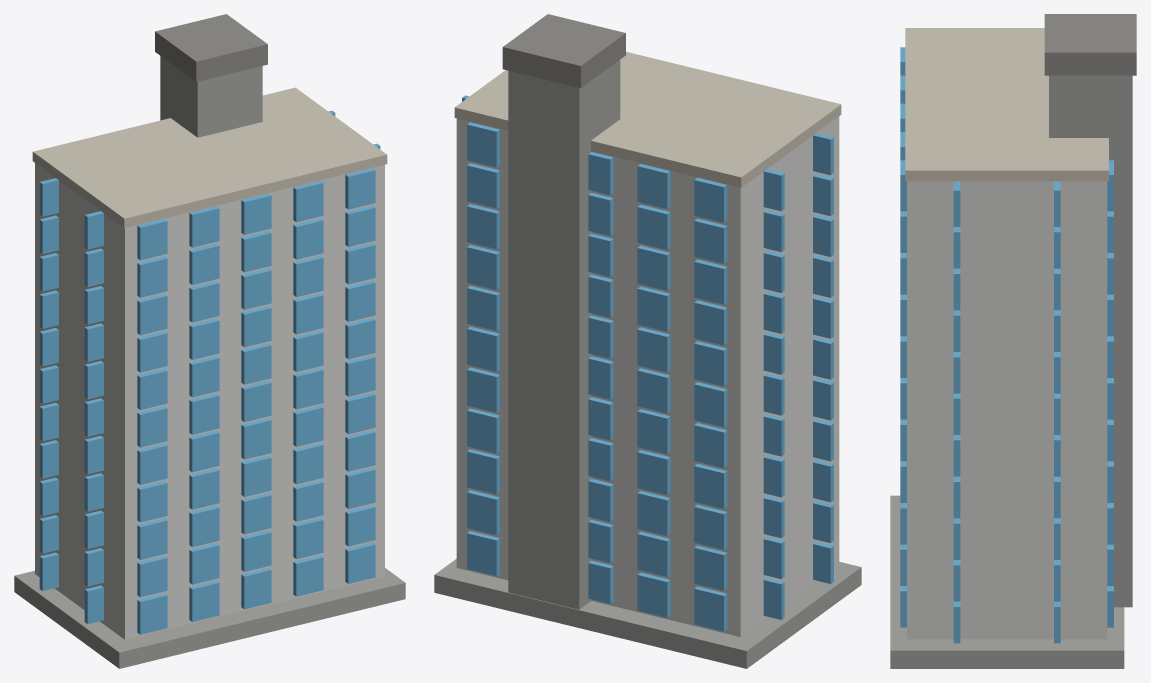
Rendered from res_conjunto.glb.
3 renders of one model, left to right at view 1: azimuth 30°, elevation 25°; view 2: azimuth 150°, elevation 25°; view 3: azimuth 270°, elevation 25°, orthographic. The views are drawn at different scales.
Visible parts, largest first — view 1: res_conjunto; view 2: res_conjunto; view 3: res_conjunto.
Boxes of the visible parts, x1,y1,x2,y2 form: res_conjunto: (14, 14, 405, 668); res_conjunto: (434, 14, 861, 668); res_conjunto: (890, 14, 1136, 668).
Bounding box in the file's own units: 0.45 × 0.765 × 0.295.
